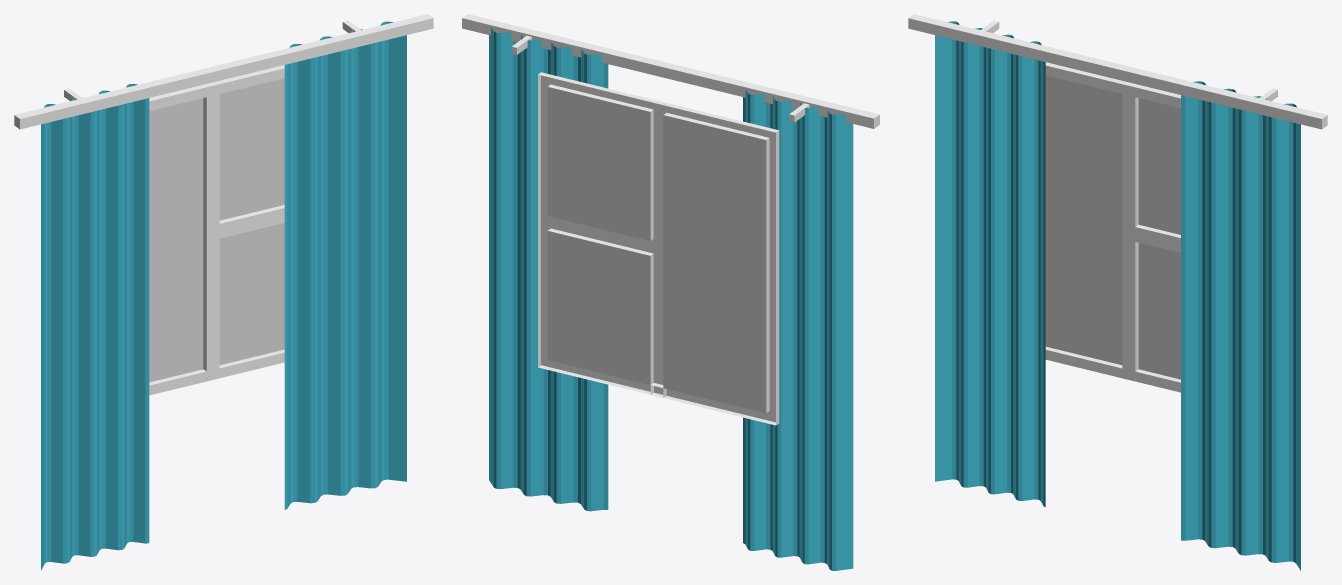
File: kitchen-curtains-and-window.fbx
3 renders of one model, left to right at view 1: azimuth 30°, elevation 25°; view 2: azimuth 150°, elevation 25°; view 3: azimuth 330°, elevation 25°, orthographic.
Parts seen in each view (by area): view 1: Plane.001, Plane, Plane.002, Cube.043; view 2: Plane.002, Plane, Plane.001, Cube.043; view 3: Plane.001, Plane, Plane.002, Cube.043.
Boxes of the visible parts, x1,y1,x2,y2 form: Plane.001: (284,21,406,509); Plane: (41,84,149,570); Plane.002: (149,65,284,395); Cube.043: (14,14,433,129); Plane.002: (538,72,779,425); Plane: (743,89,853,570); Plane.001: (489,27,608,511); Cube.043: (462,14,879,128); Plane.001: (1181,81,1300,570); Plane: (935,21,1045,507); Plane.002: (1045,62,1180,392); Cube.043: (908,14,1327,129).
Size of the model in its own units: 598 by 635 by 52.19.
